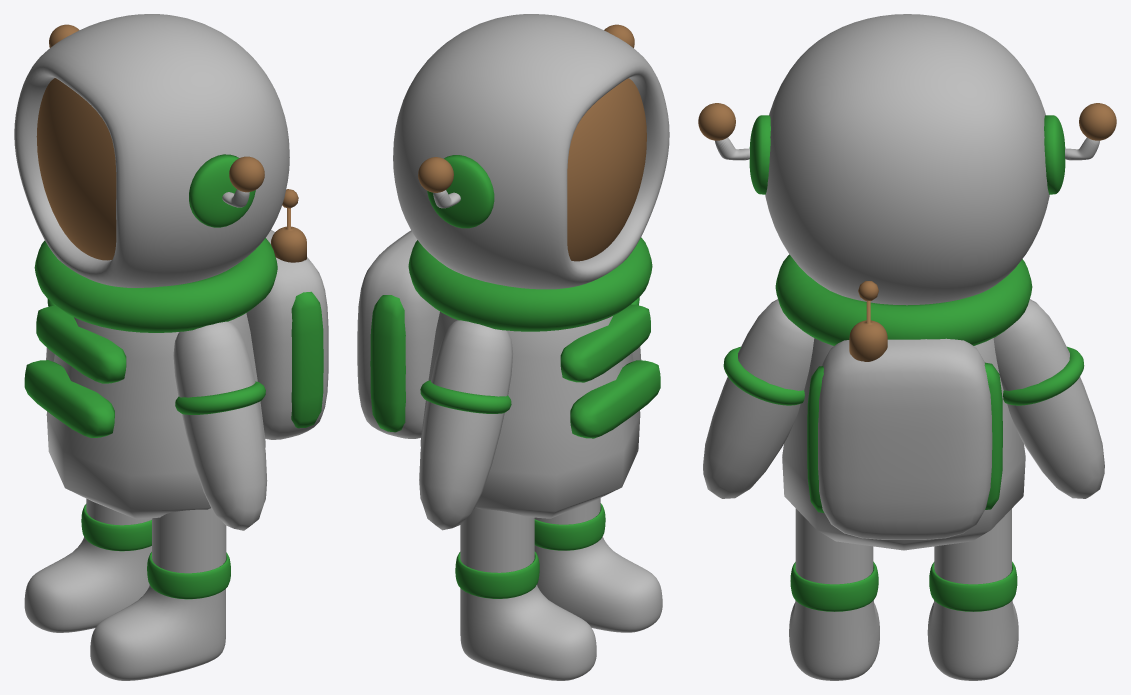
File: astronaut-green.gltf
3 renders of one model, left to right at view 1: azimuth 30°, elevation 25°; view 2: azimuth 150°, elevation 25°; view 3: azimuth 270°, elevation 25°, orthographic. The views are drawn at different scales.
Parts seen in each view (by area): view 1: Cube, Cube.003, Cube.002, Cube.005, Torus.001, Cube.001, Cube.007, Cube.004, Cube.006, Cube.010, Cube.008, Cylinder.001 (+3 smaller); view 2: Cube, Cube.003, Cube.002, Cube.005, Torus.001, Cube.001, Cube.007, Cube.009, Cube.004, Cube.006, Cube.008, Cylinder.001 (+2 smaller); view 3: Cube, Cube.007, Cube.005, Cube.003, Torus.001, Cube.002, Cube.004, Torus, Cylinder.001, Sphere, Cylinder, Cube.009 (+2 smaller).
Boxes of the visible parts, x1=… form: Cube: x1=14, y1=14, x2=289, y2=287; Cube.003: x1=24, y1=498, x2=226, y2=680; Cube.002: x1=46, y1=313, x2=265, y2=519; Cube.005: x1=46, y1=321, x2=267, y2=530; Torus.001: x1=34, y1=238, x2=277, y2=332; Cube.001: x1=36, y1=78, x2=116, y2=260; Cube.007: x1=246, y1=230, x2=328, y2=439; Cube.004: x1=81, y1=504, x2=230, y2=599; Cube.006: x1=24, y1=360, x2=114, y2=437; Cube.010: x1=291, y1=291, x2=323, y2=428; Cube.008: x1=36, y1=306, x2=126, y2=383; Cylinder.001: x1=189, y1=154, x2=255, y2=227; Cube: x1=393, y1=14, x2=669, y2=289; Cube.003: x1=460, y1=498, x2=662, y2=680; Cube.002: x1=420, y1=311, x2=640, y2=518; Cube.005: x1=419, y1=320, x2=641, y2=530; Torus.001: x1=408, y1=237, x2=652, y2=331; Cube.001: x1=567, y1=78, x2=646, y2=261; Cube.007: x1=357, y1=230, x2=439, y2=438; Cube.009: x1=370, y1=295, x2=405, y2=432; Cube.004: x1=455, y1=503, x2=605, y2=598; Cube.006: x1=570, y1=360, x2=660, y2=438; Cube.008: x1=560, y1=304, x2=650, y2=382; Cylinder.001: x1=427, y1=155, x2=494, y2=228; Cube: x1=765, y1=14, x2=1049, y2=305; Cube.007: x1=818, y1=338, x2=992, y2=539; Cube.005: x1=703, y1=299, x2=1104, y2=498; Cube.003: x1=789, y1=508, x2=1018, y2=680; Torus.001: x1=775, y1=254, x2=1032, y2=345; Cube.002: x1=782, y1=338, x2=1025, y2=550; Cube.004: x1=790, y1=561, x2=1017, y2=611; Torus: x1=723, y1=346, x2=1084, y2=405; Cylinder.001: x1=749, y1=115, x2=1065, y2=194; Sphere: x1=698, y1=103, x2=1116, y2=140; Cylinder: x1=849, y1=281, x2=887, y2=361; Cube.009: x1=984, y1=362, x2=1002, y2=509.
Bounding box in the file's own units: 0.9468 × 2.19 × 1.3.
